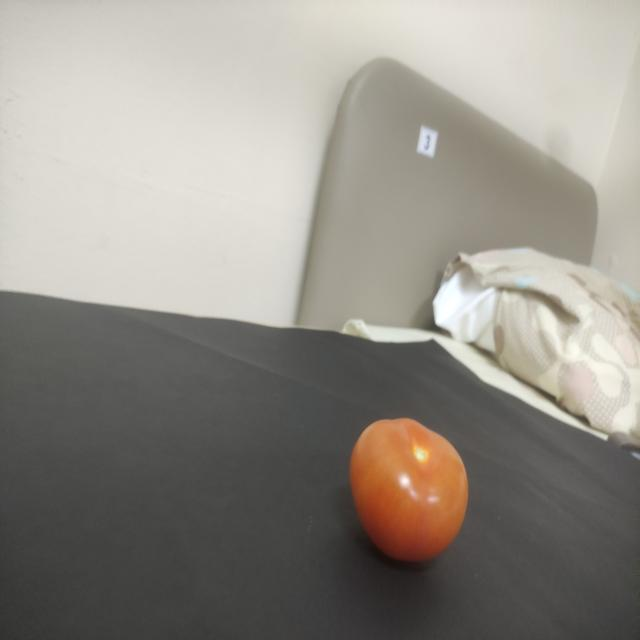sari: (344, 403, 481, 568)
